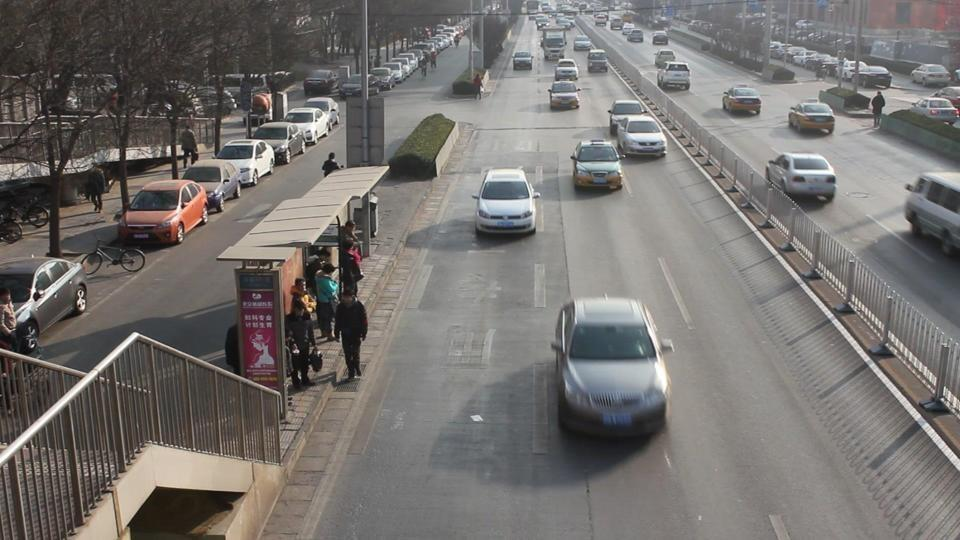car: (550, 294, 675, 438), (1, 254, 91, 351), (116, 179, 208, 247), (1, 167, 97, 225), (903, 170, 960, 256), (473, 166, 540, 235), (187, 148, 268, 202), (765, 152, 837, 203), (180, 160, 242, 212), (216, 141, 276, 187), (0, 176, 53, 228), (571, 140, 624, 190), (615, 116, 668, 159), (253, 122, 305, 164), (284, 108, 331, 146), (294, 98, 341, 135), (788, 99, 835, 136), (722, 84, 763, 116), (608, 99, 645, 132), (302, 69, 342, 97), (548, 81, 581, 111), (657, 63, 691, 91), (910, 64, 952, 86), (554, 60, 580, 83), (587, 49, 609, 73), (511, 49, 534, 71), (572, 35, 592, 51)
